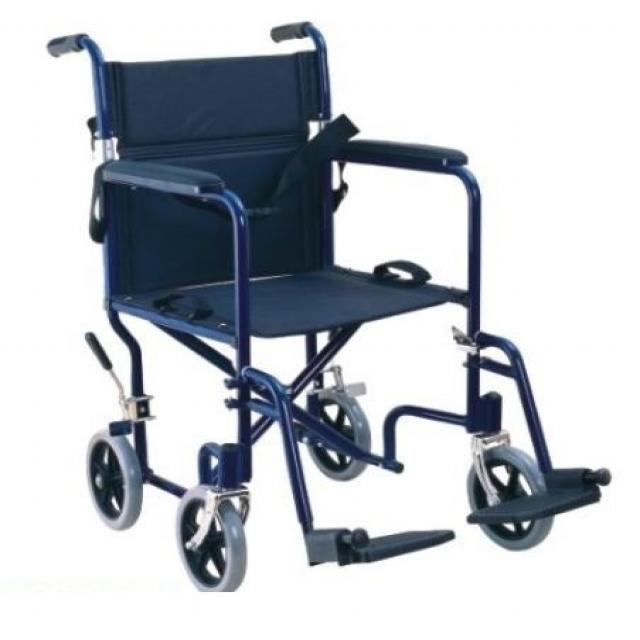wheelchair: (37, 11, 628, 607)
